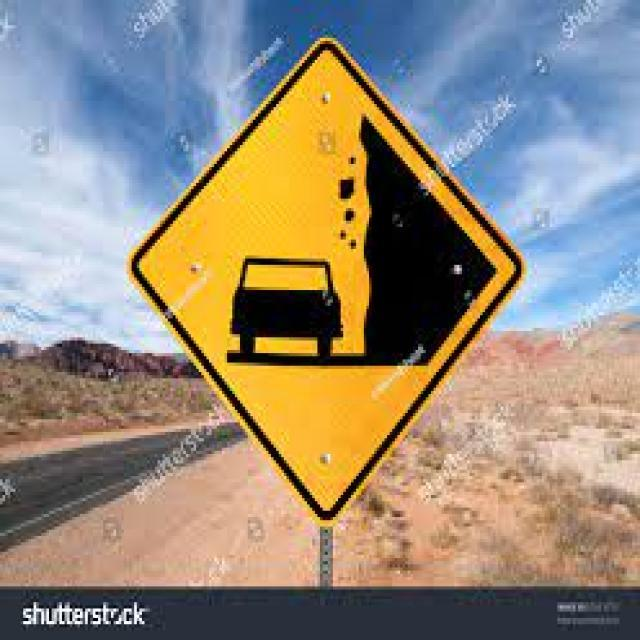Traffic sign: (126, 30, 528, 529)
